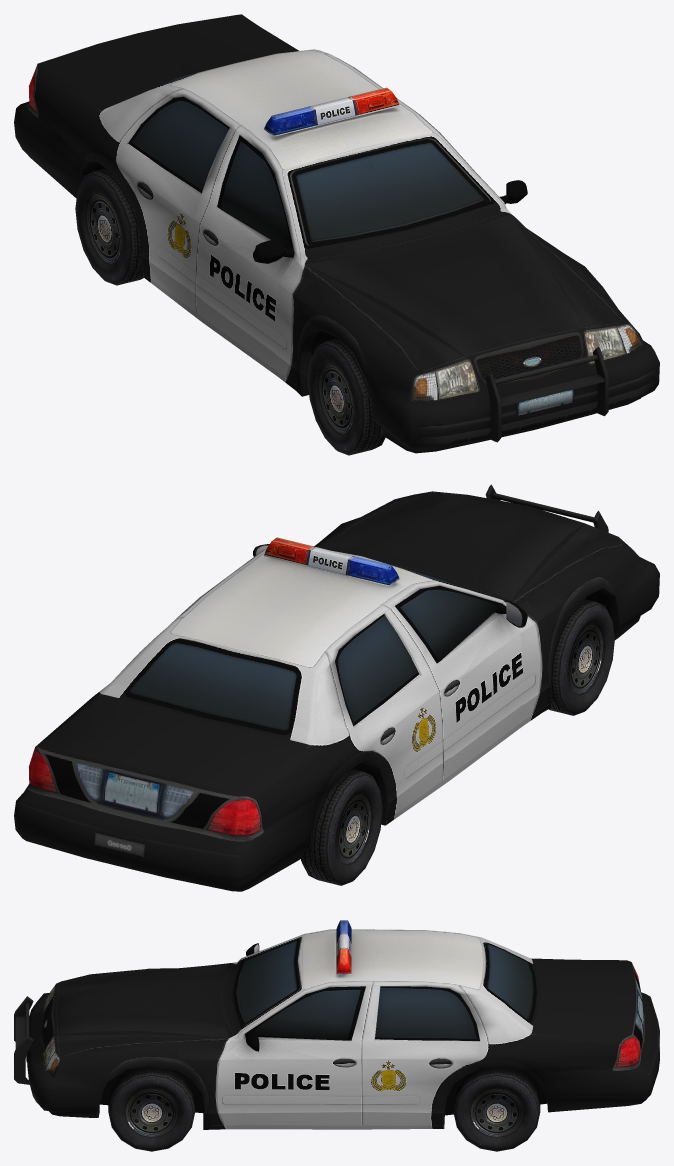
Rendered from policeCar.fbx.
3 renders of one model, top to bottom at view 1: azimuth 30°, elevation 25°; view 2: azimuth 150°, elevation 25°; view 3: azimuth 270°, elevation 25°, orthographic. The views are drawn at different scales.
Visible parts, largest first — view 1: PoliceCar_body, PoliceCar_LFR_wheel1, PoliceCar_LBR_wheel, PoliceCar_LFR_wheel, PoliceCar_LFL_light; view 2: PoliceCar_body, PoliceCar_LBR_wheel, PoliceCar_LFR_wheel1, PoliceCar_LBR_light, PoliceCar_LBL_Light; view 3: PoliceCar_body, PoliceCar_LBLwheel, PoliceCar_LFL_wheel, PoliceCar_LBL_Light, PoliceCar_LFL_light.
Part boxes in pixels (<box>): PoliceCar_body: <box>14,14,659,453</box>; PoliceCar_LFR_wheel1: <box>307,338,385,455</box>; PoliceCar_LBR_wheel: <box>75,168,143,285</box>; PoliceCar_LFR_wheel: <box>409,358,477,402</box>; PoliceCar_LFL_light: <box>585,323,644,364</box>; PoliceCar_body: <box>14,484,659,891</box>; PoliceCar_LBR_wheel: <box>301,769,382,885</box>; PoliceCar_LFR_wheel1: <box>548,599,614,715</box>; PoliceCar_LBR_light: <box>207,797,260,834</box>; PoliceCar_LBL_Light: <box>29,747,57,793</box>; PoliceCar_body: <box>14,920,659,1129</box>; PoliceCar_LBLwheel: <box>453,1067,540,1151</box>; PoliceCar_LFL_wheel: <box>108,1067,195,1151</box>; PoliceCar_LBL_Light: <box>616,1035,640,1067</box>; PoliceCar_LFL_light: <box>43,1036,60,1077</box>.
Size of the model in its own units: 204 by 159 by 561.
